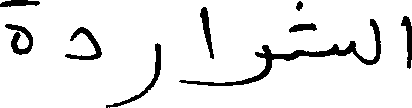ا: (200, 5, 212, 56), (401, 13, 411, 69)
ة: (0, 0, 32, 56)
د: (65, 25, 98, 60)
ر: (104, 40, 161, 105), (225, 43, 269, 86)
ش: (287, 0, 353, 59)
ل: (368, 16, 379, 65)
